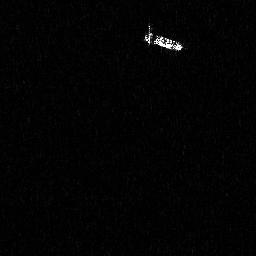ship: (143, 23, 185, 53)
